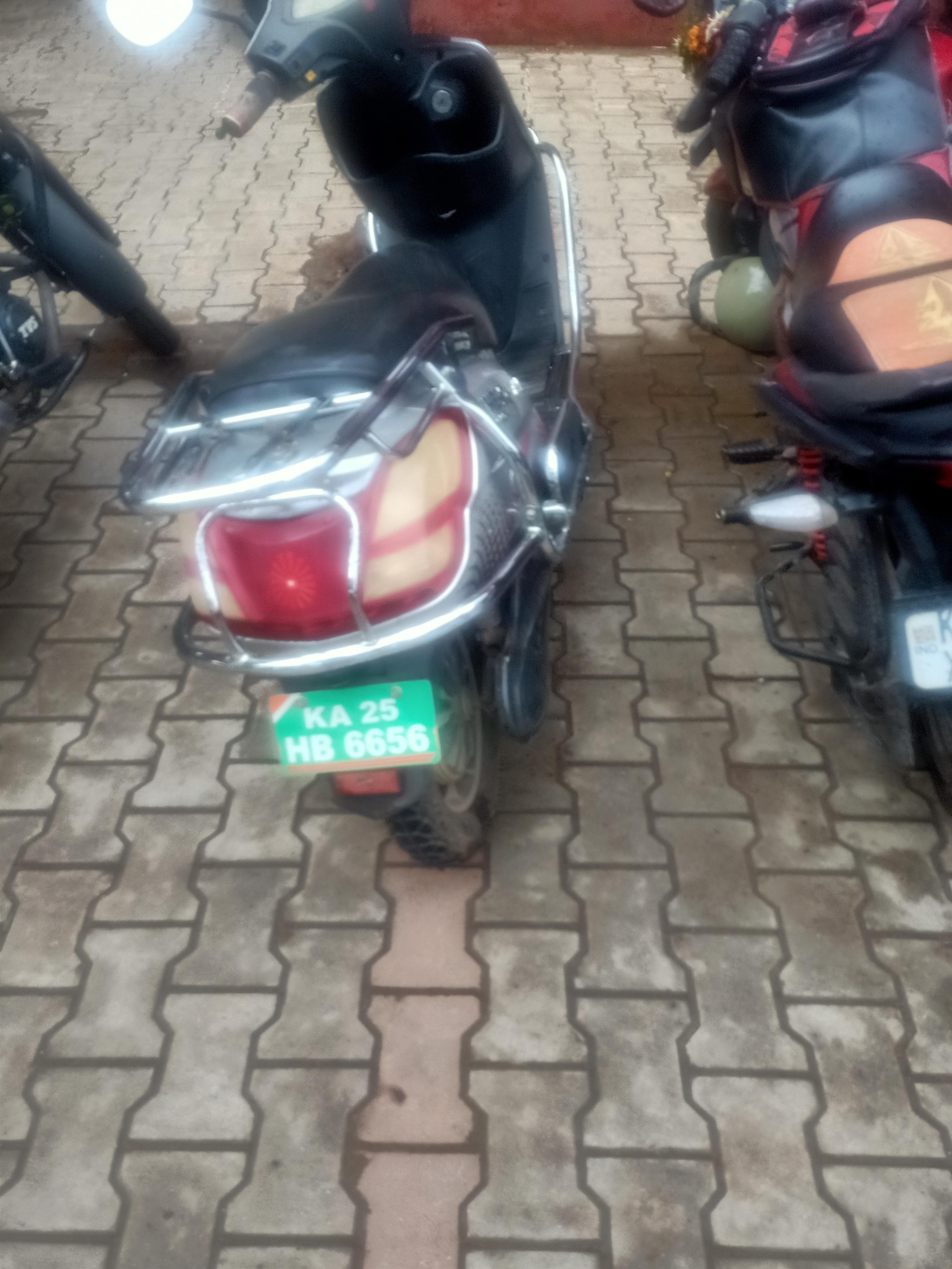green license plate: (260, 679, 451, 774)
